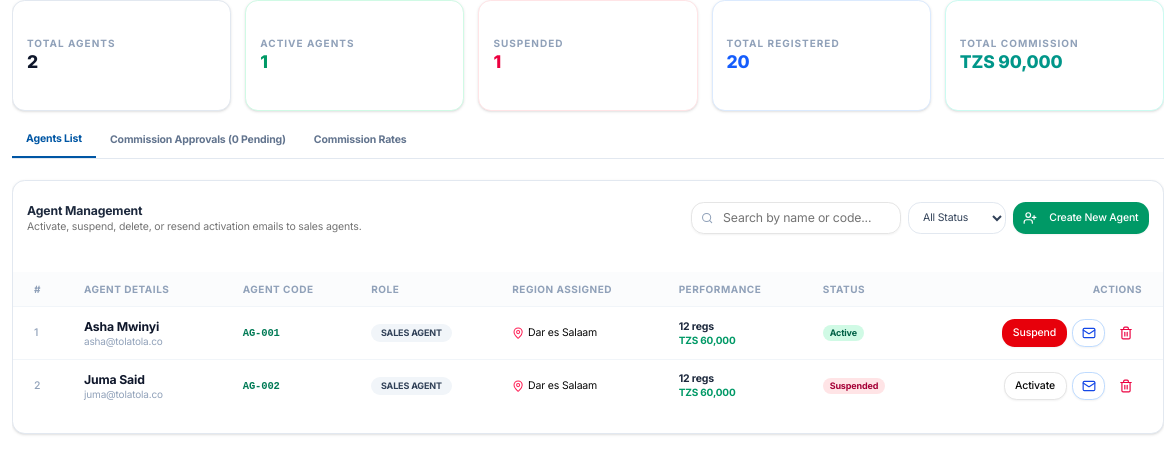
it: AgentManagementTab › handleUpdateRates › shows an empty state when no rates are configured
This screenshot has width=1164, height=452.
Check: the text "AG-001" is shown, box left=229, top=307, right=357, bottom=360
Click the button "Commission Rates". click: [360, 145]
box: left=300, top=132, right=420, bottom=158
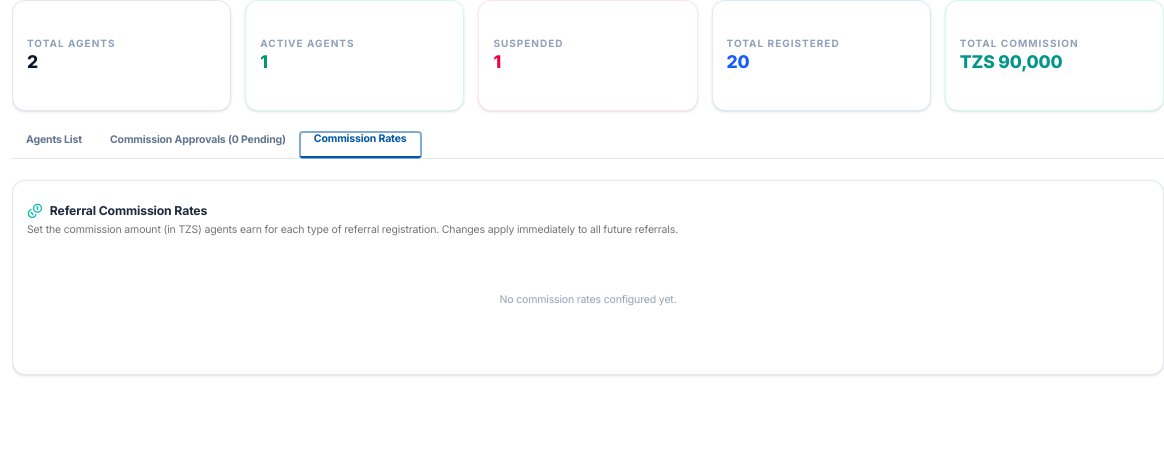
Check: the text "No commission rates configured yet." is shown, box left=500, top=293, right=676, bottom=306
